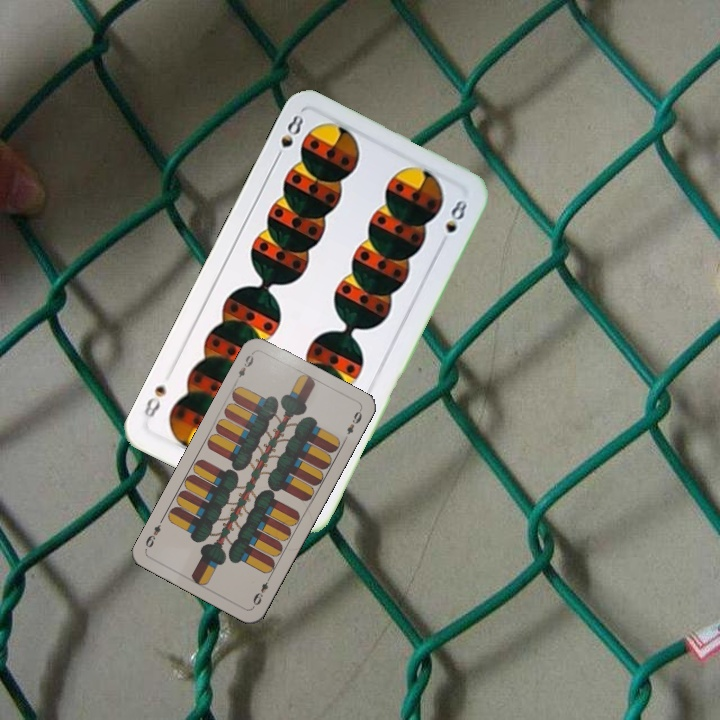E9: (231, 348, 257, 385), (249, 572, 274, 610)
S8: (270, 110, 306, 165)
